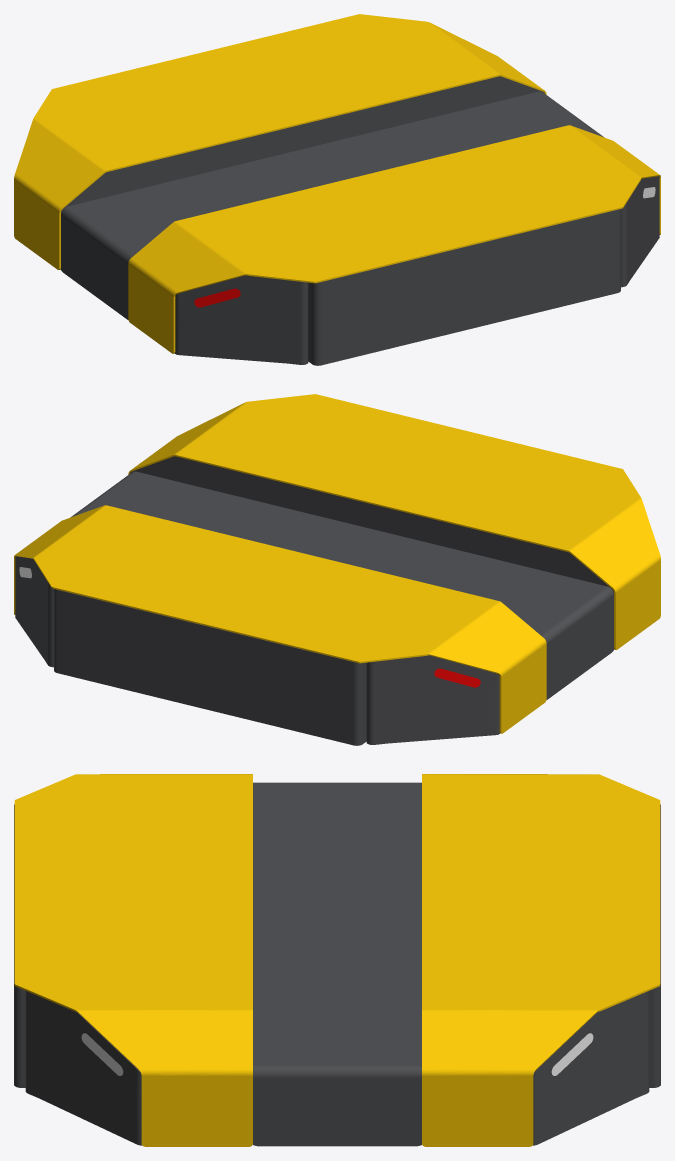
Rendered from body.dae.
The picture shows the model from 3 angles, top to bottom: view 1: azimuth 30°, elevation 25°; view 2: azimuth 150°, elevation 25°; view 3: azimuth 270°, elevation 25°; orthographic projection. The views are drawn at different scales.
Visible parts, largest first — view 1: Dingo_Top_Level_-_Diff_000, Dingo_Top_Level_-_Diff_091, Dingo_Top_Level_-_Diff_034, Dingo_Top_Level_-_Diff_013, Dingo_Top_Level_-_Diff_032; view 2: Dingo_Top_Level_-_Diff_000, Dingo_Top_Level_-_Diff_091, Dingo_Top_Level_-_Diff_034, Dingo_Top_Level_-_Diff_013, Dingo_Top_Level_-_Diff_032; view 3: Dingo_Top_Level_-_Diff_000, Dingo_Top_Level_-_Diff_034, Dingo_Top_Level_-_Diff_013, Dingo_Top_Level_-_Diff_091, Dingo_Top_Level_-_Diff_032, Dingo_Top_Level_-_Diff_002.
Part boxes in pixels (bbox=[...]): Dingo_Top_Level_-_Diff_000: bbox=[14, 14, 660, 353]; Dingo_Top_Level_-_Diff_091: bbox=[308, 209, 620, 365]; Dingo_Top_Level_-_Diff_034: bbox=[61, 91, 604, 315]; Dingo_Top_Level_-_Diff_013: bbox=[175, 176, 659, 364]; Dingo_Top_Level_-_Diff_032: bbox=[60, 76, 544, 319]; Dingo_Top_Level_-_Diff_000: bbox=[14, 394, 660, 733]; Dingo_Top_Level_-_Diff_091: bbox=[54, 589, 366, 745]; Dingo_Top_Level_-_Diff_034: bbox=[70, 471, 613, 695]; Dingo_Top_Level_-_Diff_013: bbox=[15, 556, 499, 744]; Dingo_Top_Level_-_Diff_032: bbox=[130, 456, 614, 699]; Dingo_Top_Level_-_Diff_000: bbox=[14, 774, 660, 1146]; Dingo_Top_Level_-_Diff_034: bbox=[253, 782, 421, 1140]; Dingo_Top_Level_-_Diff_013: bbox=[25, 991, 649, 1145]; Dingo_Top_Level_-_Diff_091: bbox=[14, 804, 660, 1087]; Dingo_Top_Level_-_Diff_032: bbox=[253, 1137, 421, 1146]; Dingo_Top_Level_-_Diff_002: bbox=[81, 1033, 593, 1075].
Bounding box in the file's own units: 0.5512 × 0.5172 × 0.0963.
